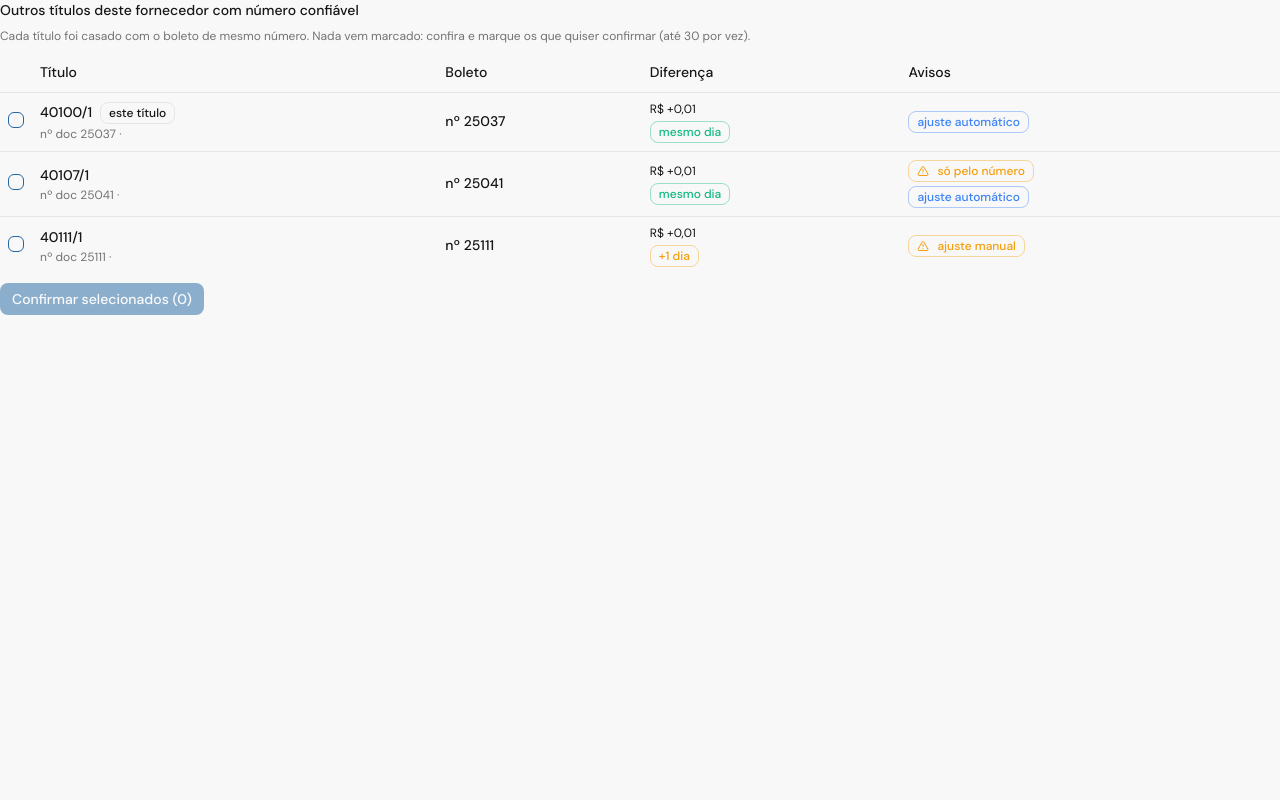
Scenario: ConfirmacaoEmConjuntoSecao › erro do servidor (422) fica no diálogo, que continua aberto
This screenshot has width=1280, height=800.
Click the checkbox named "Marcar o título 40107/1".
click(16, 182)  # box [8,174,24,190]
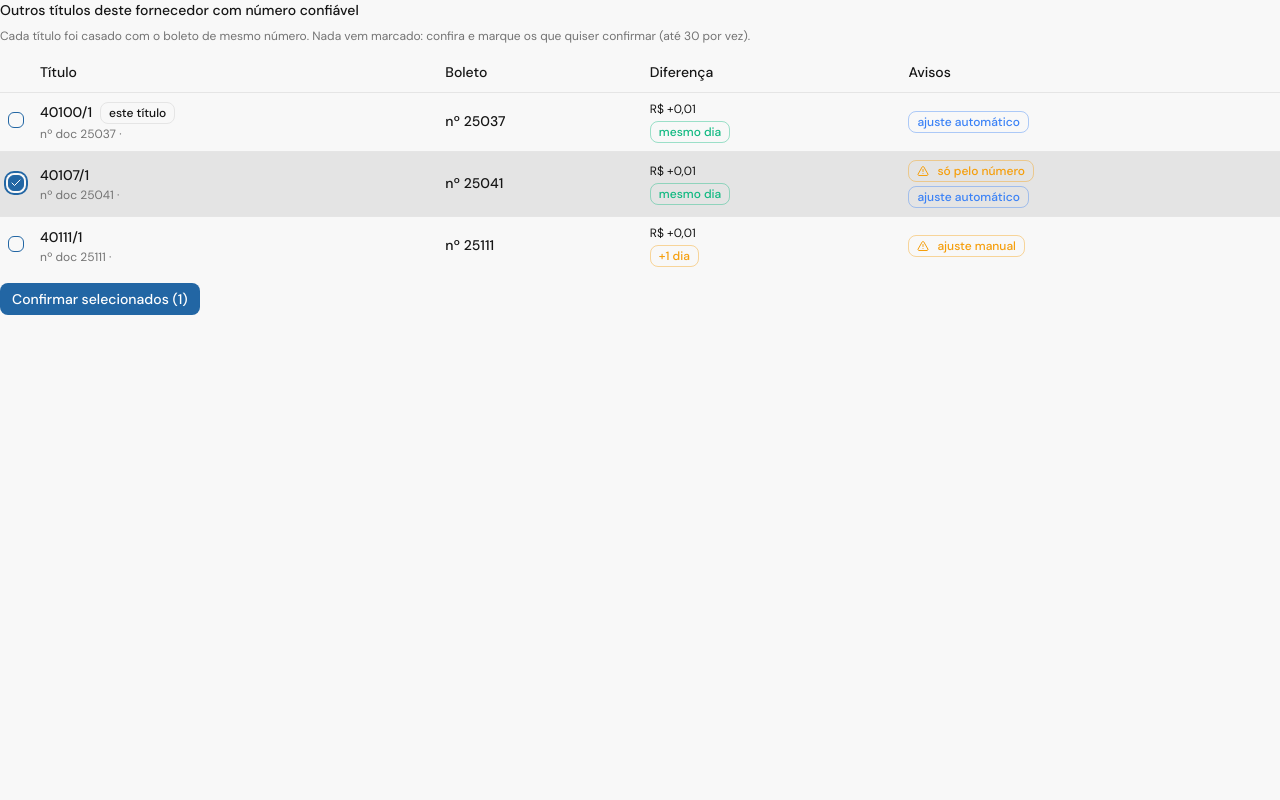
Click the button "Confirmar selecionados (1)".
click(100, 298)  # box [0,282,200,314]
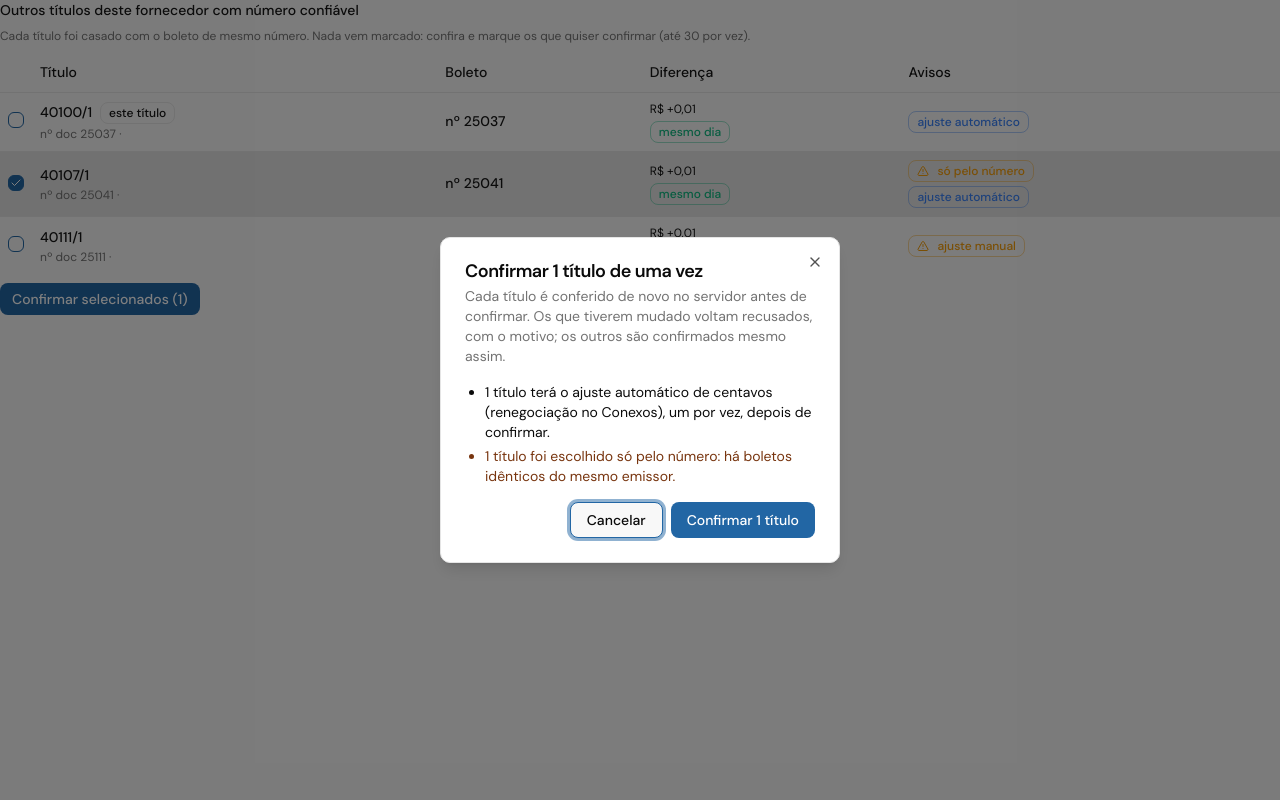
Click the button "Confirmar 1 título".
click(743, 520)  # box [671,502,815,538]
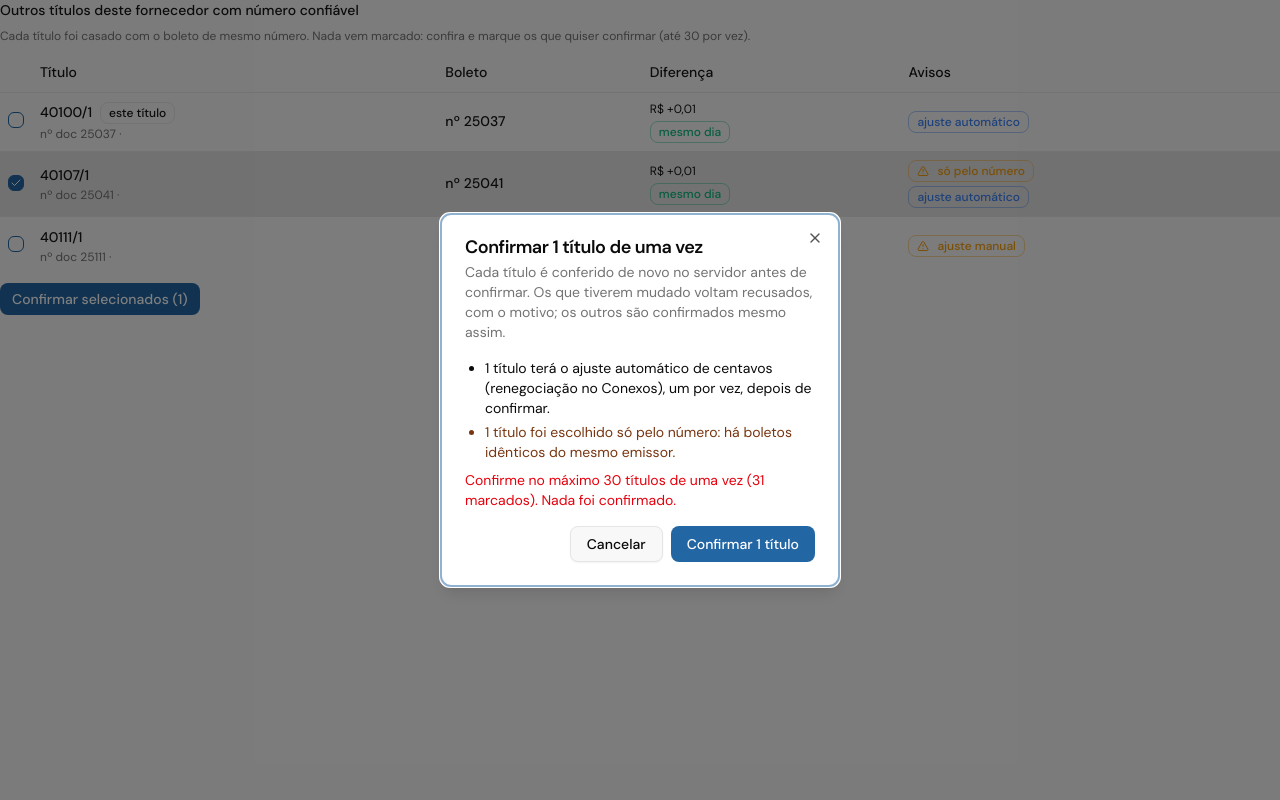
Result: the dialog is shown at [440,213,840,587]
Result: the message shows "no máximo 30" at [465,471,764,509]
